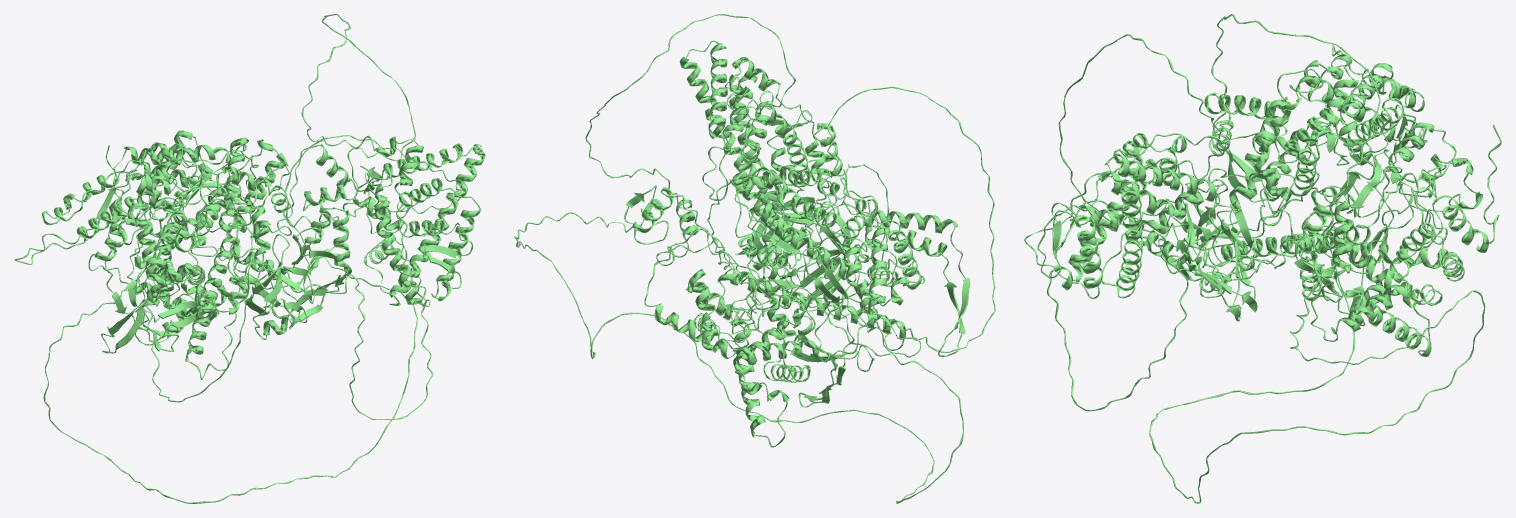
3 views of the same model, side by side, from view 1: azimuth 30°, elevation 25°; view 2: azimuth 150°, elevation 25°; view 3: azimuth 270°, elevation 25° (orthographic). The views are drawn at different scales.
Size of the model in its own units: 143 by 134 by 118.
